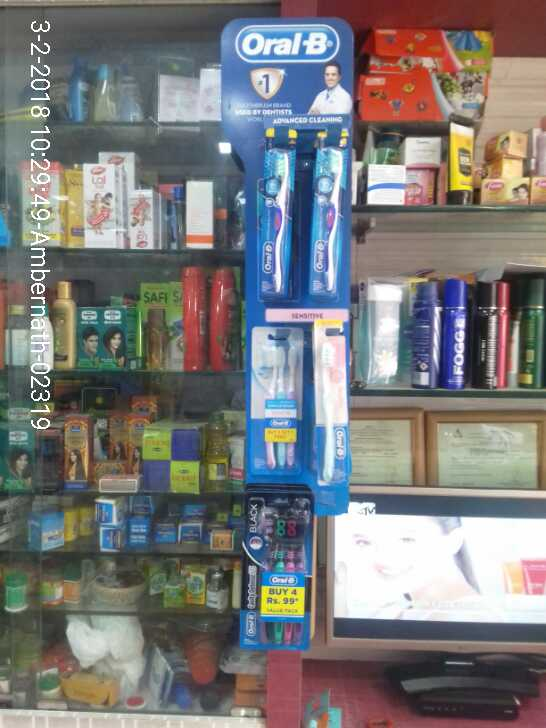oralb: (241, 492, 311, 655), (248, 324, 304, 477), (311, 314, 351, 483), (312, 141, 349, 307), (261, 142, 292, 300)
